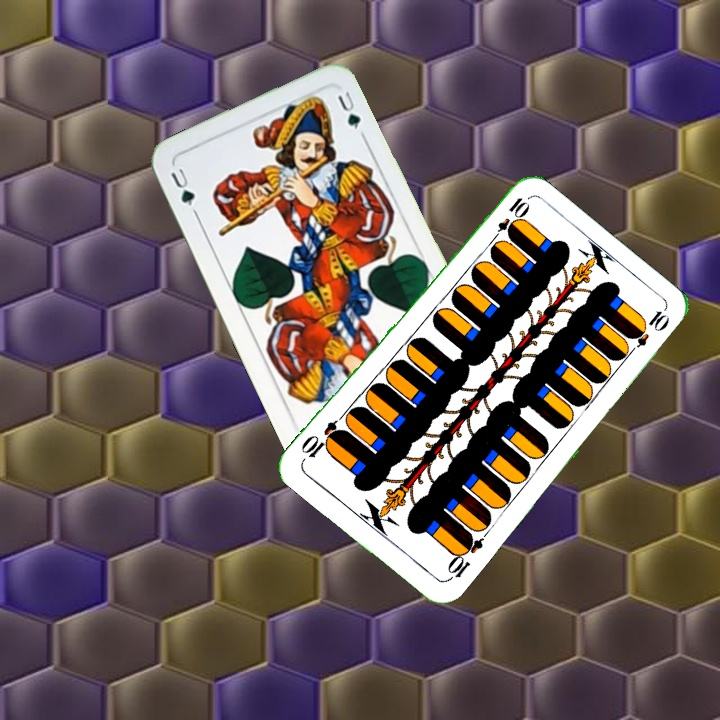E10: (443, 529, 486, 584), (487, 193, 530, 246)
GU: (166, 164, 198, 209)
